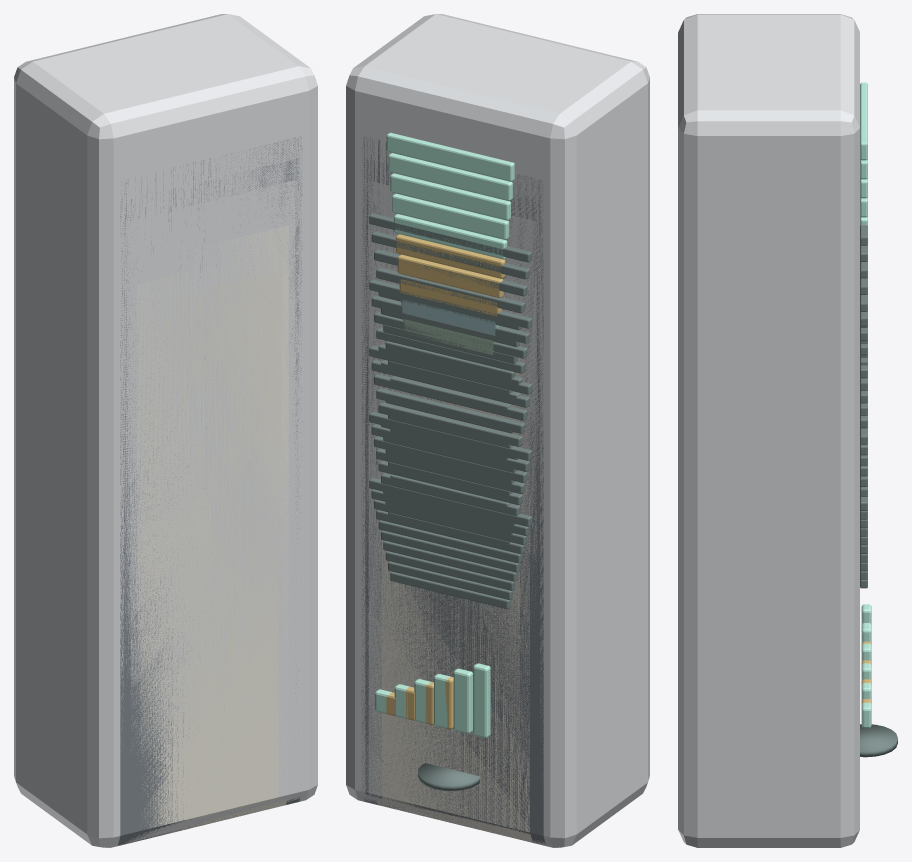
Rendered from Gear18.fbx.
3 renders of one model, left to right at view 1: azimuth 30°, elevation 25°; view 2: azimuth 150°, elevation 25°; view 3: azimuth 270°, elevation 25°, orthographic.
Visible parts, largest first — view 1: Gear18_V10_Platinum, Gear18_V1_Ivory, Gear18_V5_Platinum, Gear18_V9_Platinum, Gear18_V6_Platinum, Gear18_V2_Ivory, Gear18_V3_Linen, Gear18_V7_Graphite, Gear18_V4_Linen, Gear18_V8_Graphite; view 2: Gear18_V10_Platinum, Gear18_V7_Graphite, Gear18_V4_Linen, Gear18_V2_Ivory, Gear18_V6_Platinum, Gear18_V1_Ivory, Gear18_V9_Platinum, Gear18_V10_Ink, Gear18_V1_Ink, Gear18_V7_Ink, Gear18_V3_Ink, Gear18_V2_Ink (+17 smaller); view 3: Gear18_V10_Platinum, Gear18_V10_Glow, Gear18_V1_Ink, Gear18_V10_Ink, Gear18_V9_Ink, Gear18_V8_Ink, Gear18_V7_Ink.
Boxes of the visible parts, box(x1,y1,x2,y2) form: Gear18_V10_Platinum: box(14, 14, 317, 847); Gear18_V1_Ivory: box(144, 297, 278, 828); Gear18_V5_Platinum: box(128, 203, 291, 842); Gear18_V9_Platinum: box(114, 114, 305, 846); Gear18_V6_Platinum: box(127, 180, 295, 816); Gear18_V2_Ivory: box(140, 270, 281, 827); Gear18_V3_Linen: box(137, 249, 285, 794); Gear18_V7_Graphite: box(123, 158, 298, 838); Gear18_V4_Linen: box(134, 225, 288, 835); Gear18_V8_Graphite: box(118, 136, 302, 845); Gear18_V10_Platinum: box(346, 14, 649, 847); Gear18_V7_Graphite: box(365, 159, 540, 838); Gear18_V4_Linen: box(375, 227, 532, 842); Gear18_V2_Ivory: box(382, 279, 521, 818); Gear18_V6_Platinum: box(368, 181, 536, 803); Gear18_V1_Ivory: box(385, 301, 519, 829); Gear18_V9_Platinum: box(358, 114, 549, 846); Gear18_V10_Ink: box(369, 213, 532, 526); Gear18_V1_Ink: box(390, 376, 510, 790); Gear18_V7_Ink: box(376, 267, 525, 554); Gear18_V3_Ink: box(385, 341, 515, 590); Gear18_V2_Ink: box(388, 360, 513, 599); Gear18_V10_Platinum: box(678, 14, 859, 847); Gear18_V10_Glow: box(860, 82, 871, 728); Gear18_V1_Ink: box(860, 579, 897, 757); Gear18_V10_Ink: box(860, 225, 867, 510); Gear18_V9_Ink: box(860, 244, 867, 519); Gear18_V8_Ink: box(860, 261, 867, 528); Gear18_V7_Ink: box(860, 277, 867, 536).
Size of the model in its own units: 40.8 by 125 by 33.8.
